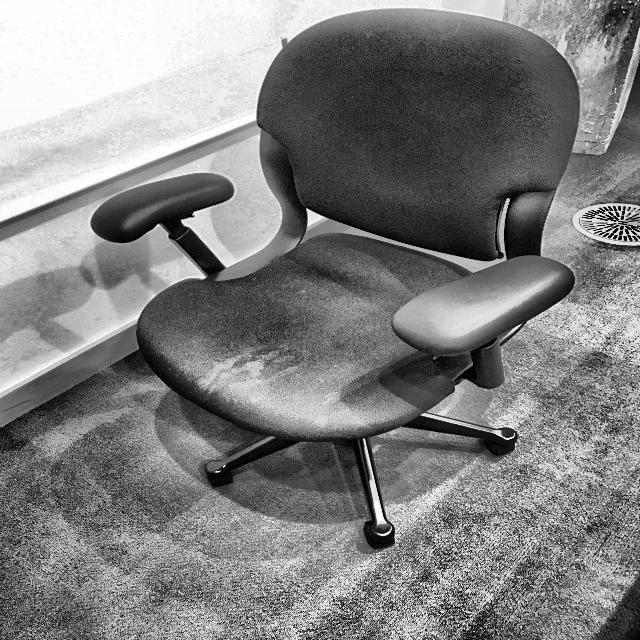chair: (84, 6, 586, 548)
